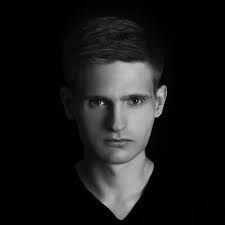no-mask: (55, 31, 175, 171)
